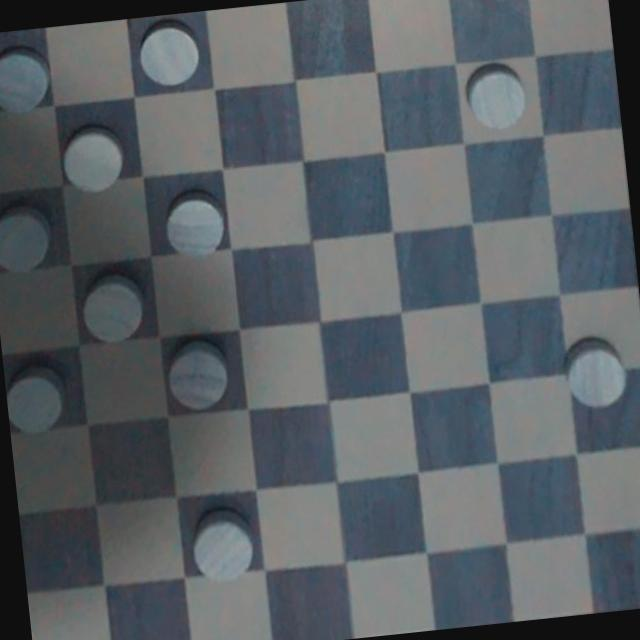BOARD: (0, 0, 640, 640)
white: (151, 174, 244, 262), (126, 10, 214, 101), (180, 498, 268, 584), (68, 268, 154, 350), (2, 352, 78, 441), (558, 329, 634, 415), (54, 120, 132, 196), (162, 337, 234, 415), (461, 58, 530, 134), (0, 203, 67, 277), (0, 44, 61, 124)
